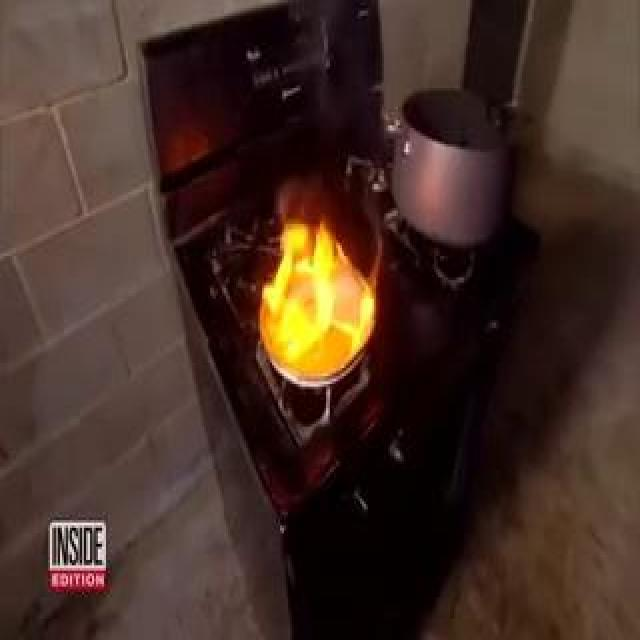Fire: (258, 196, 386, 385)
